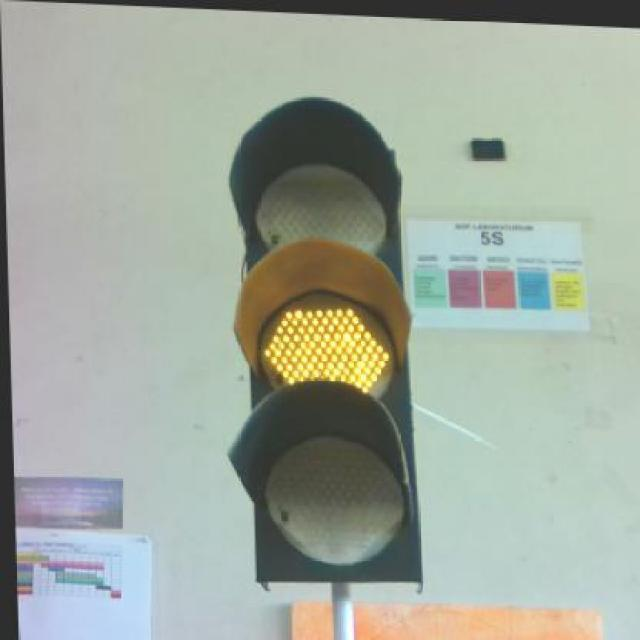yellow_light: (228, 98, 420, 590)
